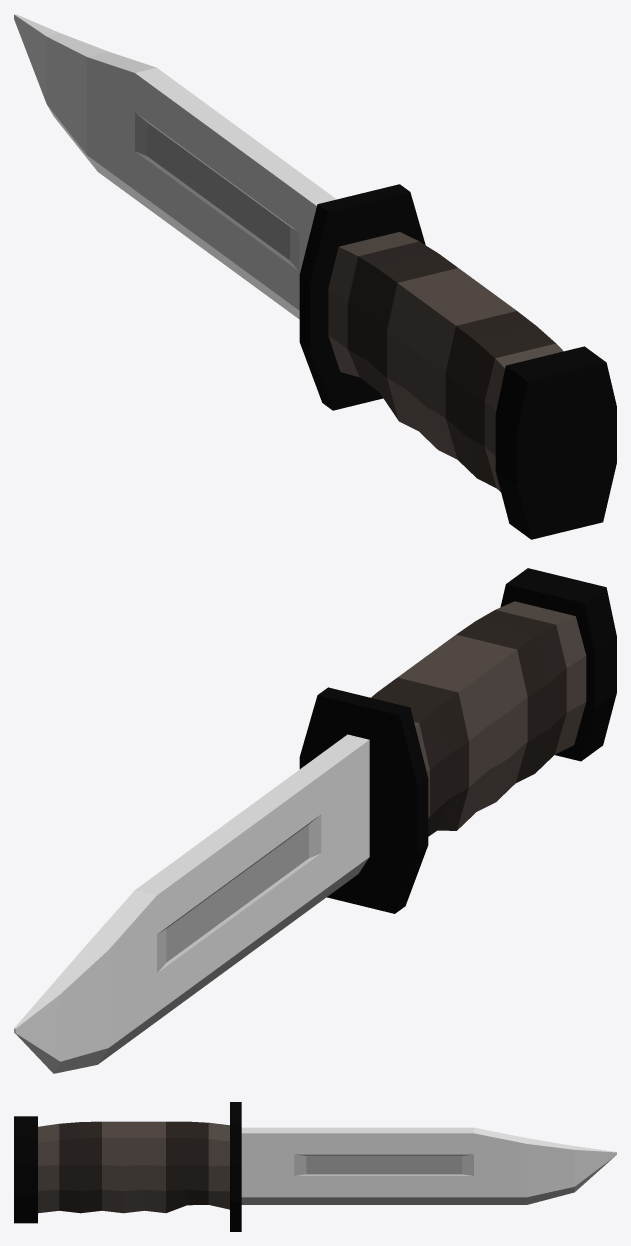
File: knife.fbx
The picture shows the model from 3 angles, top to bottom: view 1: azimuth 30°, elevation 25°; view 2: azimuth 150°, elevation 25°; view 3: azimuth 270°, elevation 25°; orthographic projection. The views are drawn at different scales.
Parts seen in each view (by area): view 1: Knife; view 2: Knife; view 3: Knife.
Boxes of the visible parts, x1=… form: Knife: x1=14, y1=14, x2=616, y2=539; Knife: x1=14, y1=568, x2=616, y2=1073; Knife: x1=14, y1=1102, x2=616, y2=1231.
Bounding box in the file's own units: 0.1779 × 0.2878 × 1.44.
